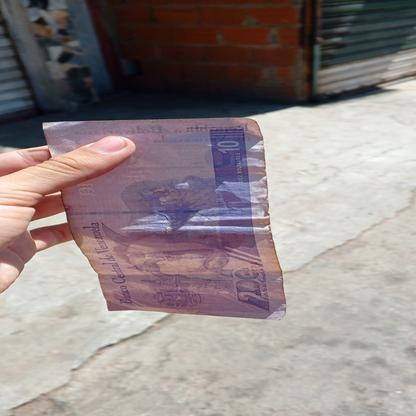ten-back-vef: (40, 119, 286, 321)
